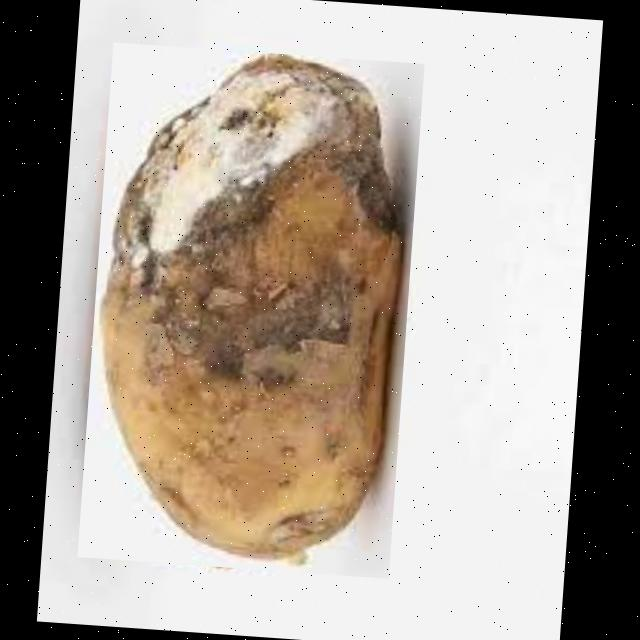Damaged potato: (77, 40, 424, 578)
